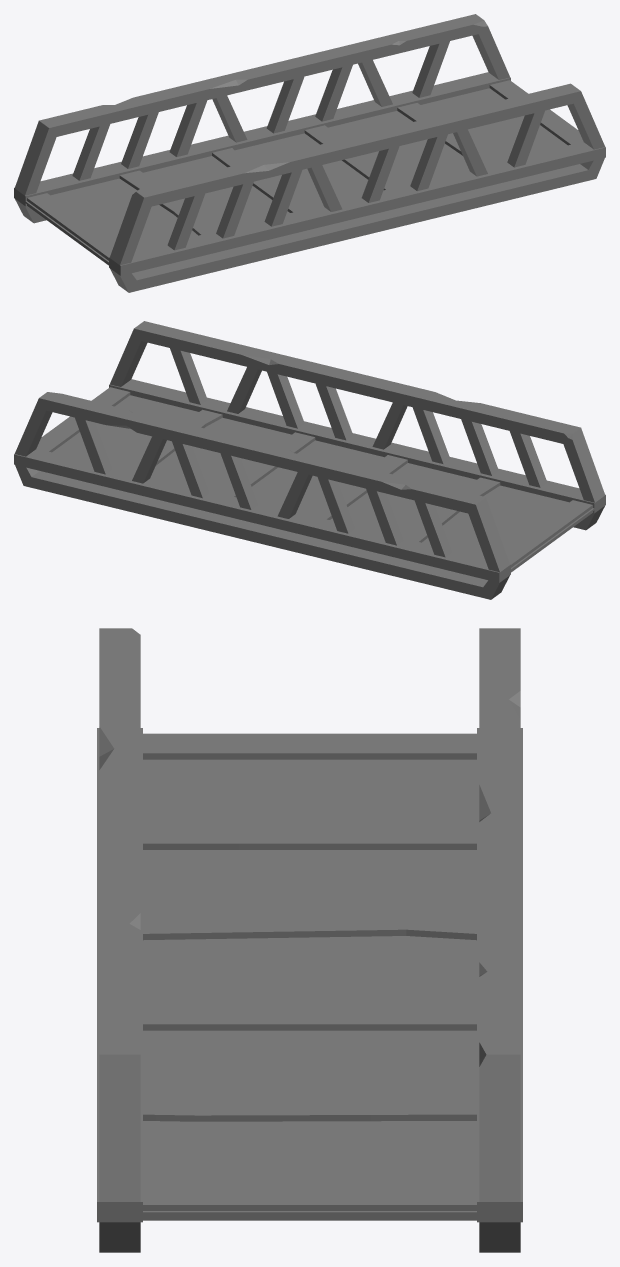
File: prop_bridge_01.fbx
The picture shows the model from 3 angles, top to bottom: view 1: azimuth 30°, elevation 25°; view 2: azimuth 150°, elevation 25°; view 3: azimuth 270°, elevation 25°; orthographic projection. The views are drawn at different scales.
Parts seen in each view (by area): view 1: SM_Prop_Bridge_01; view 2: SM_Prop_Bridge_01; view 3: SM_Prop_Bridge_01.
Boxes of the visible parts, bbox=[...] form: SM_Prop_Bridge_01: bbox=[14, 14, 605, 292]; SM_Prop_Bridge_01: bbox=[14, 321, 605, 599]; SM_Prop_Bridge_01: bbox=[97, 628, 522, 1252].
Bounding box in the file's own units: 500 × 90.07 × 190.
